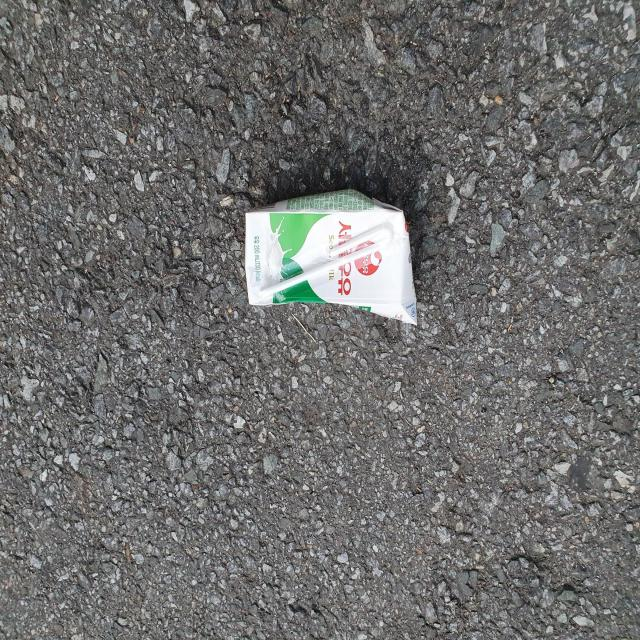paperpack: (245, 188, 417, 324)
